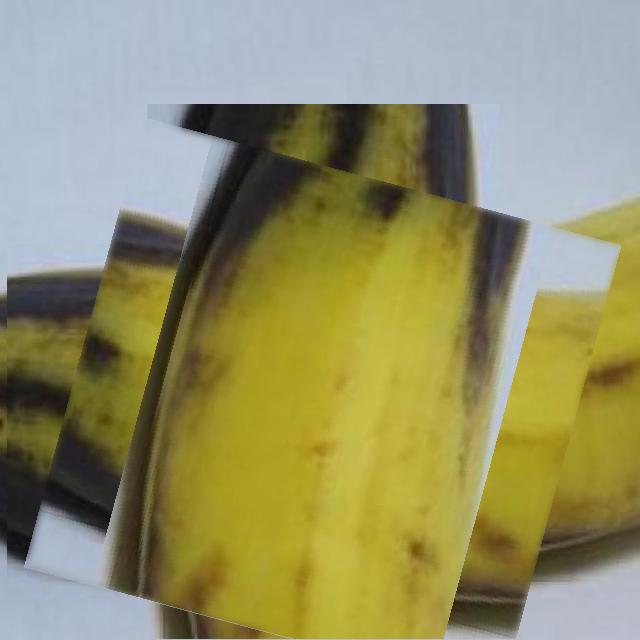Muito Madura: (50, 146, 595, 640)
